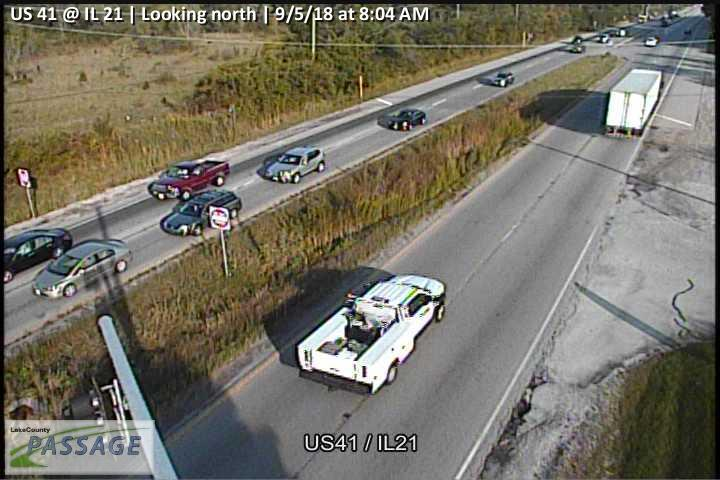Sedan: (29, 236, 134, 300), (1, 226, 72, 286), (160, 190, 243, 238), (262, 143, 326, 184), (386, 107, 428, 130)
Truck: (296, 274, 446, 398), (603, 66, 663, 140), (147, 159, 230, 202)
